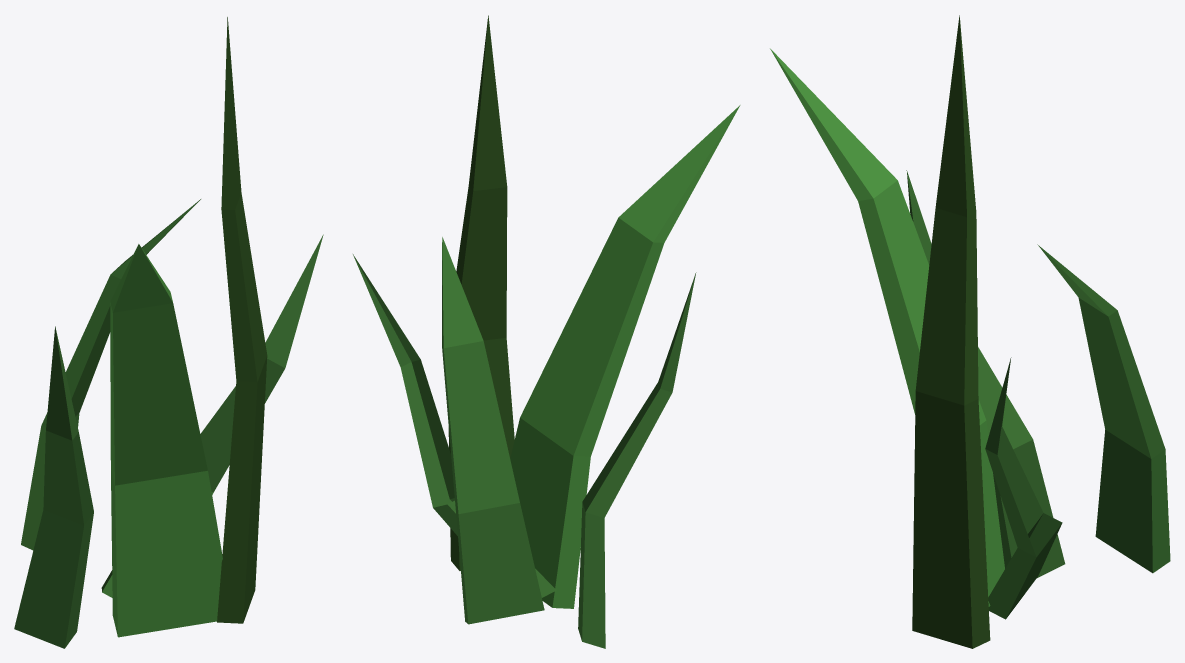
Rendered from MiniBunch.fbx.
3 views of the same model, side by side, from view 1: azimuth 30°, elevation 25°; view 2: azimuth 150°, elevation 25°; view 3: azimuth 270°, elevation 25° (orthographic). The views are drawn at different scales.
Parts seen in each view (by area): view 1: Cube.004, Cube.005, Cube.003, Cube.002; view 2: Cube.004, Cube.002, Cube.005, Cube.003; view 3: Cube.005, Cube.002, Cube.004, Cube.003.
Boxes of the visible parts, bbox=[...] form: Cube.004: bbox=[110, 244, 222, 637]; Cube.005: bbox=[101, 17, 323, 623]; Cube.003: bbox=[14, 326, 93, 648]; Cube.002: bbox=[21, 199, 200, 550]; Cube.004: bbox=[510, 105, 740, 608]; Cube.002: bbox=[442, 237, 544, 624]; Cube.005: bbox=[353, 15, 556, 597]; Cube.003: bbox=[578, 272, 696, 648]; Cube.005: bbox=[912, 15, 1062, 648]; Cube.002: bbox=[1037, 244, 1170, 573]; Cube.004: bbox=[770, 48, 1004, 606]; Cube.003: bbox=[906, 170, 1065, 577].
Size of the model in its own units: 144 by 266 by 150.
